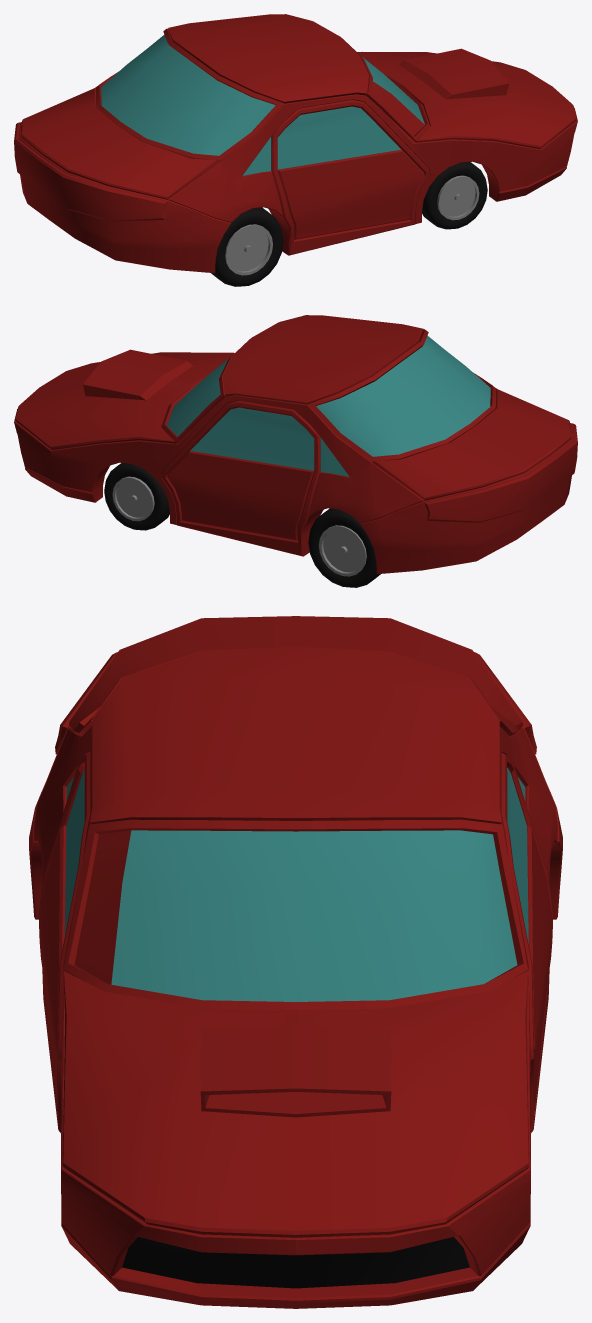
Rendered from car.obj.
3 views of the same model, one above another, from view 1: azimuth 30°, elevation 25°; view 2: azimuth 150°, elevation 25°; view 3: azimuth 270°, elevation 25° (orthographic). The views are drawn at different scales.
Parts seen in each view (by area): view 1: polySurface192; view 2: polySurface192; view 3: polySurface192.
Boxes of the visible parts, box(x1,y1,x2,y2) form: polySurface192: box(14, 14, 577, 286); polySurface192: box(14, 315, 577, 587); polySurface192: box(29, 616, 562, 1308).
Bounding box in the file's own units: 1457 × 497 × 652.
